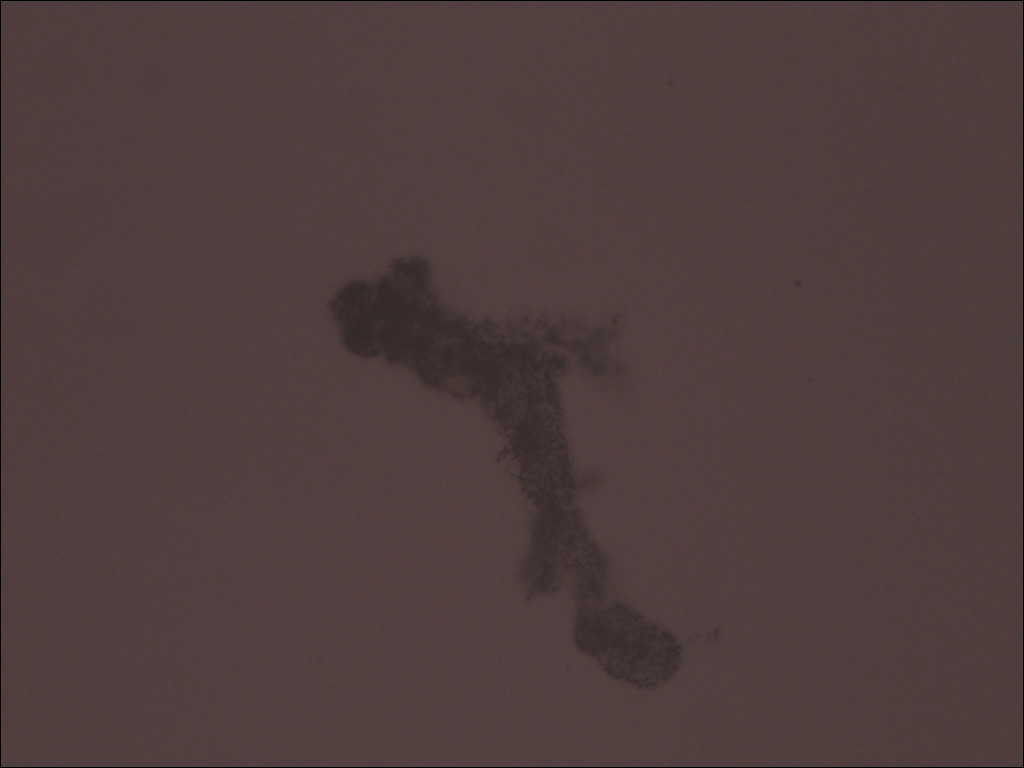amoeba: (323, 242, 729, 700)
